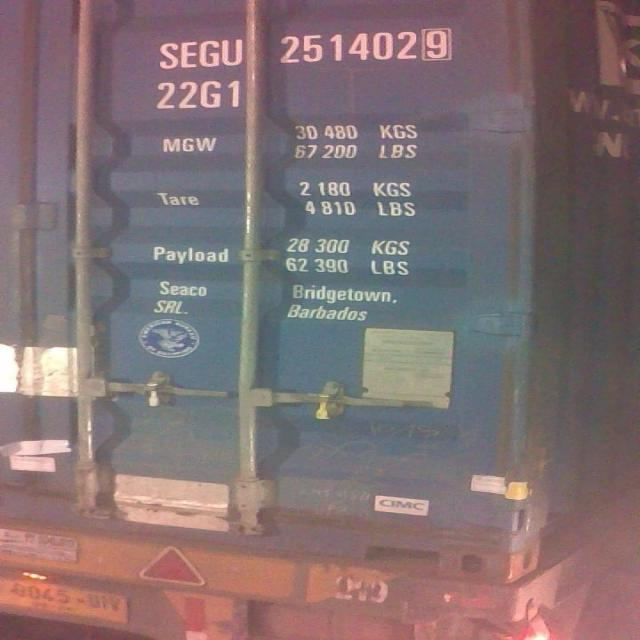seal: (313, 392, 334, 423), (144, 382, 167, 405)
